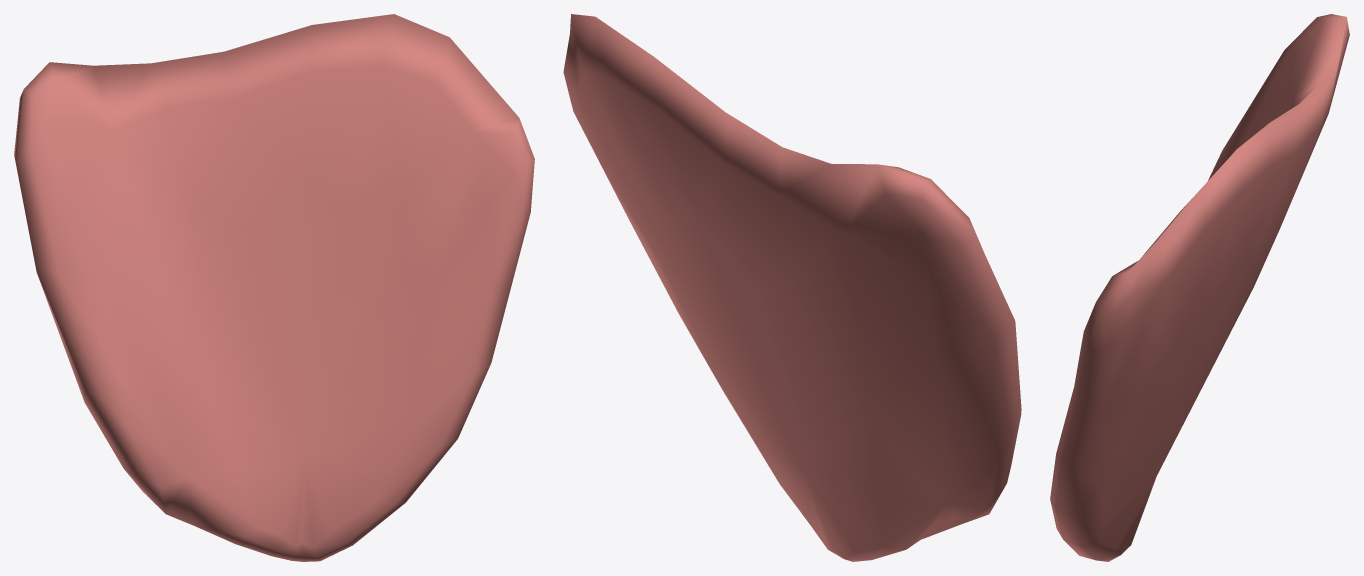
3 renders of one model, left to right at view 1: azimuth 30°, elevation 25°; view 2: azimuth 150°, elevation 25°; view 3: azimuth 270°, elevation 25°, orthographic. The views are drawn at different scales.
Visible parts, largest first — view 1: ZA_85c8ac4604a07083; view 2: ZA_85c8ac4604a07083; view 3: ZA_85c8ac4604a07083.
Boxes of the visible parts, x1,y1,x2,y2 form: ZA_85c8ac4604a07083: [14, 14, 534, 561]; ZA_85c8ac4604a07083: [563, 14, 1021, 561]; ZA_85c8ac4604a07083: [1050, 14, 1349, 561].
Size of the model in its own units: 0.00546 by 0.00556 by 0.00312.
